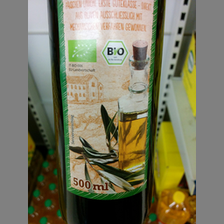oil: (46, 1, 167, 224)
